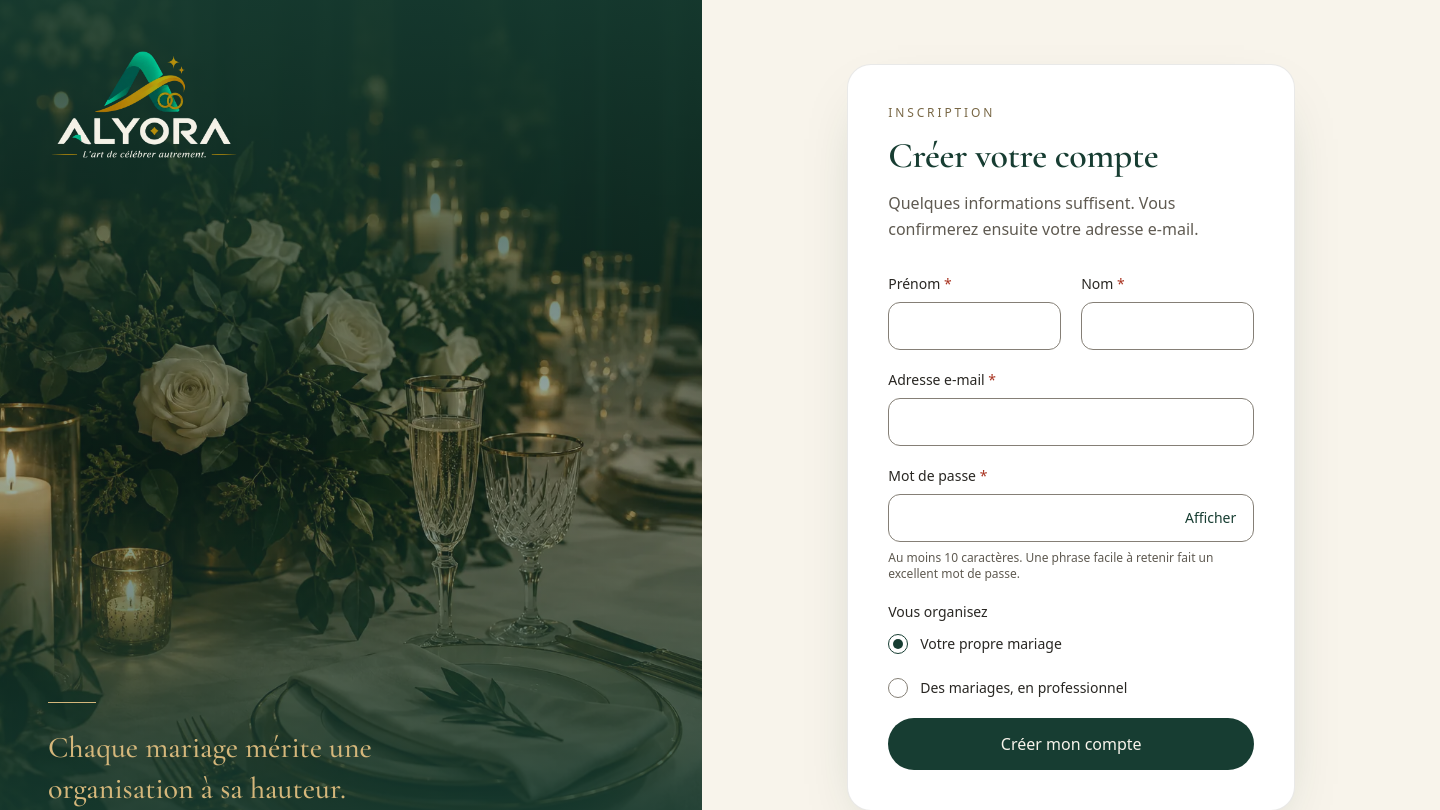
Test: registration page › sends an Idempotency-Key, then says to check the mailbox
In the field labelled "Prénom *": (975, 326) [888,302,1061,350], type "Awa"
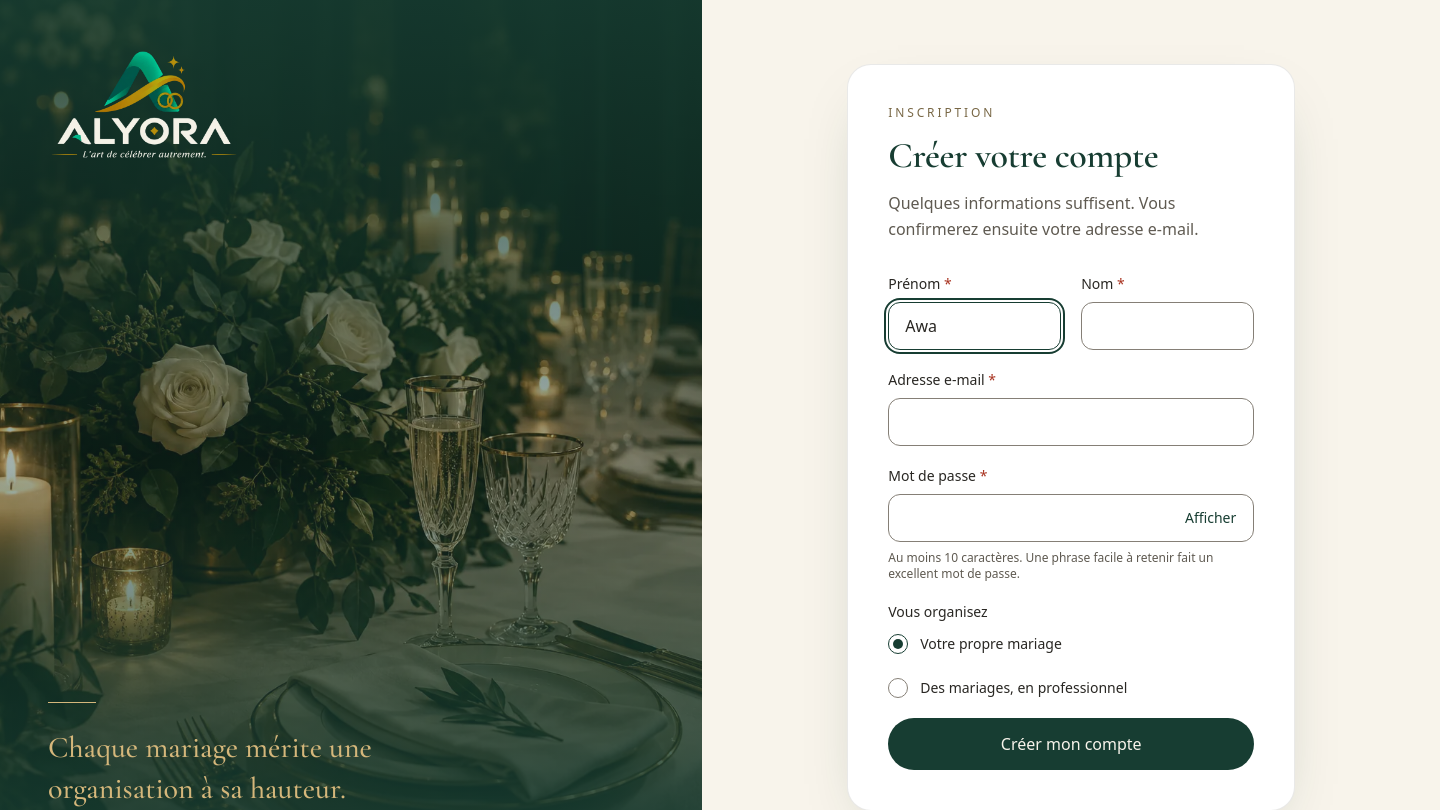
In the field labelled "Nom *": (1168, 326) [1081,302,1254,350], type "Koné"
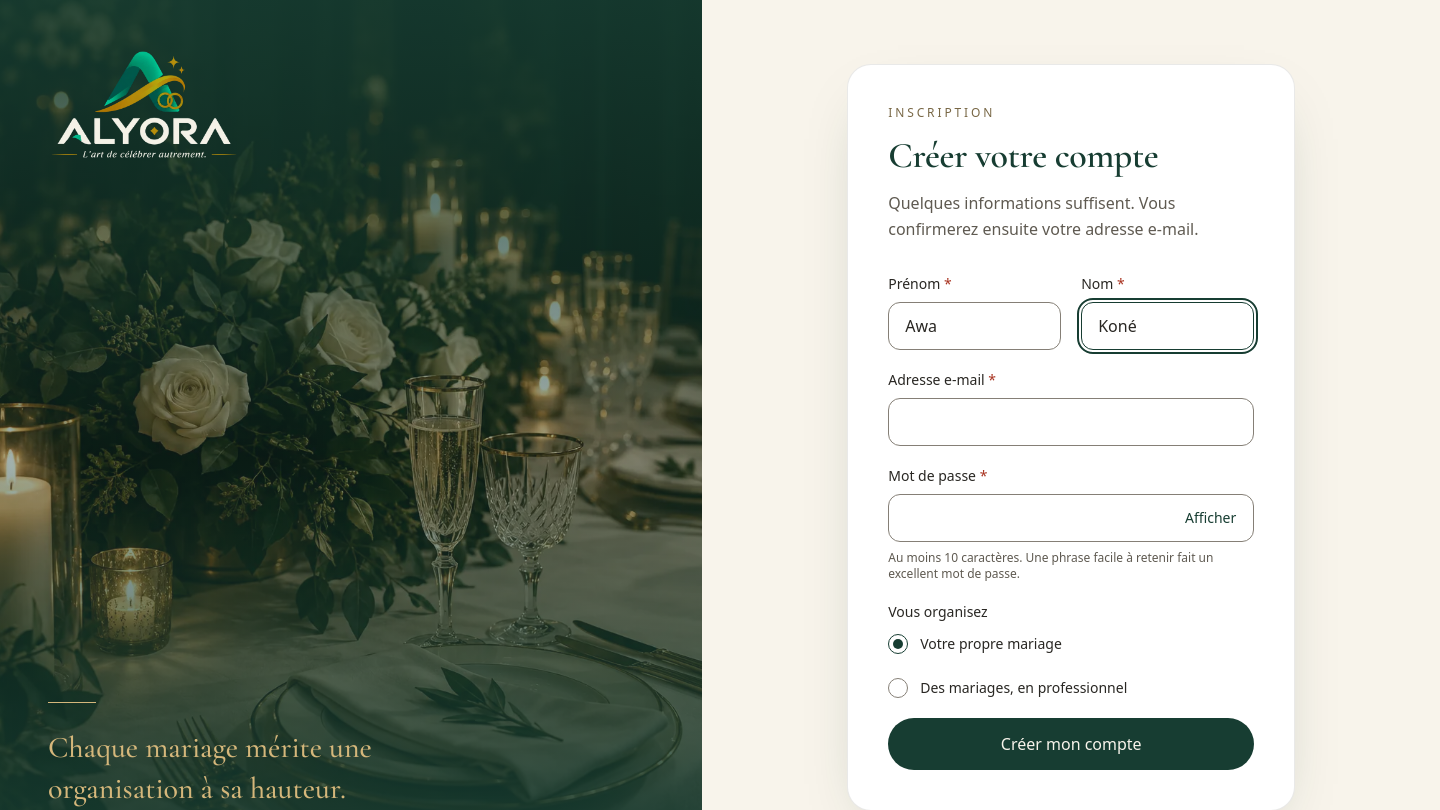
In the field labelled "Adresse e-mail *": (1071, 422) [888,398,1254,446], type "awa@exemple.ci"
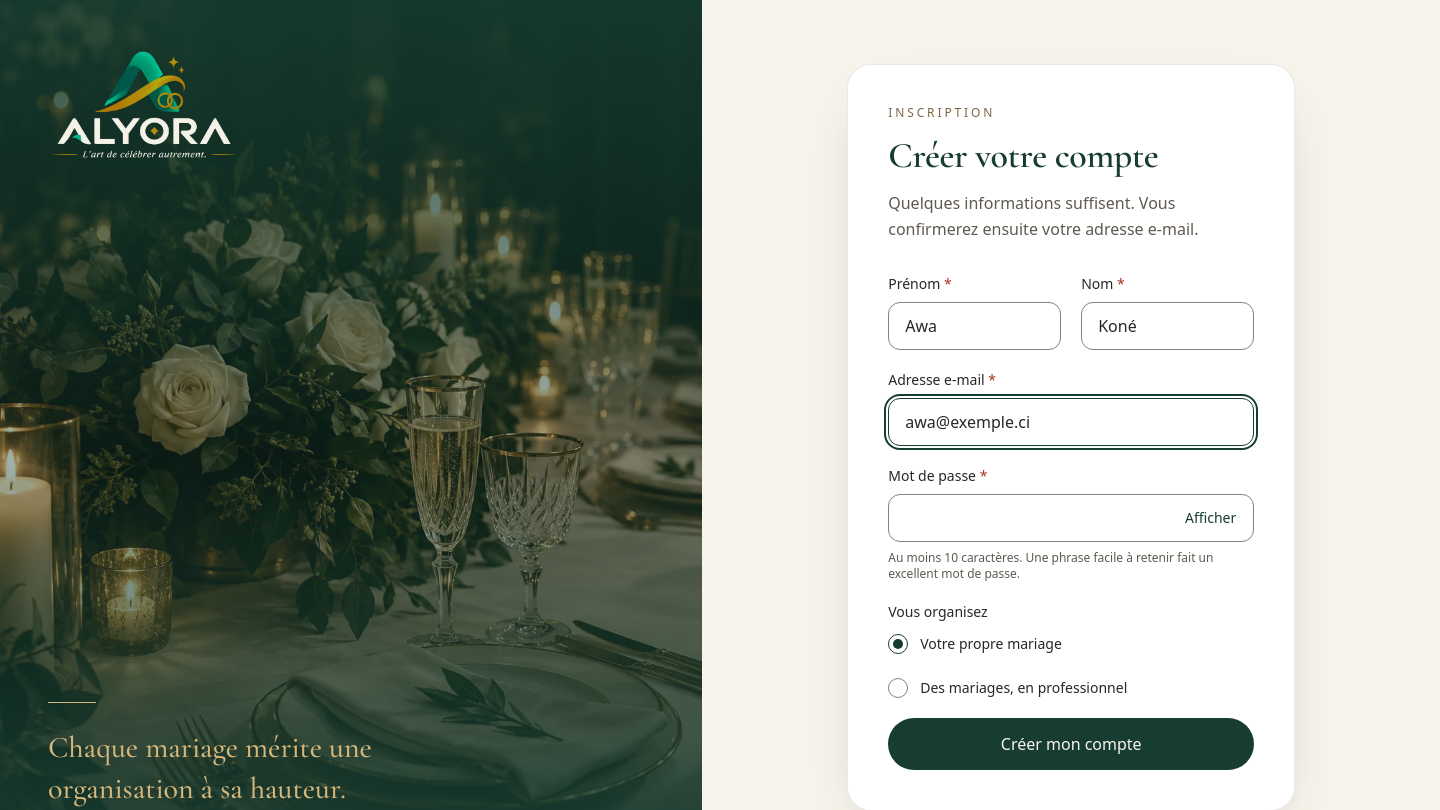
In the password field labelled "Mot de passe *": (1071, 518) [888,494,1254,542], type "Le soleil se lève sur la lagune"
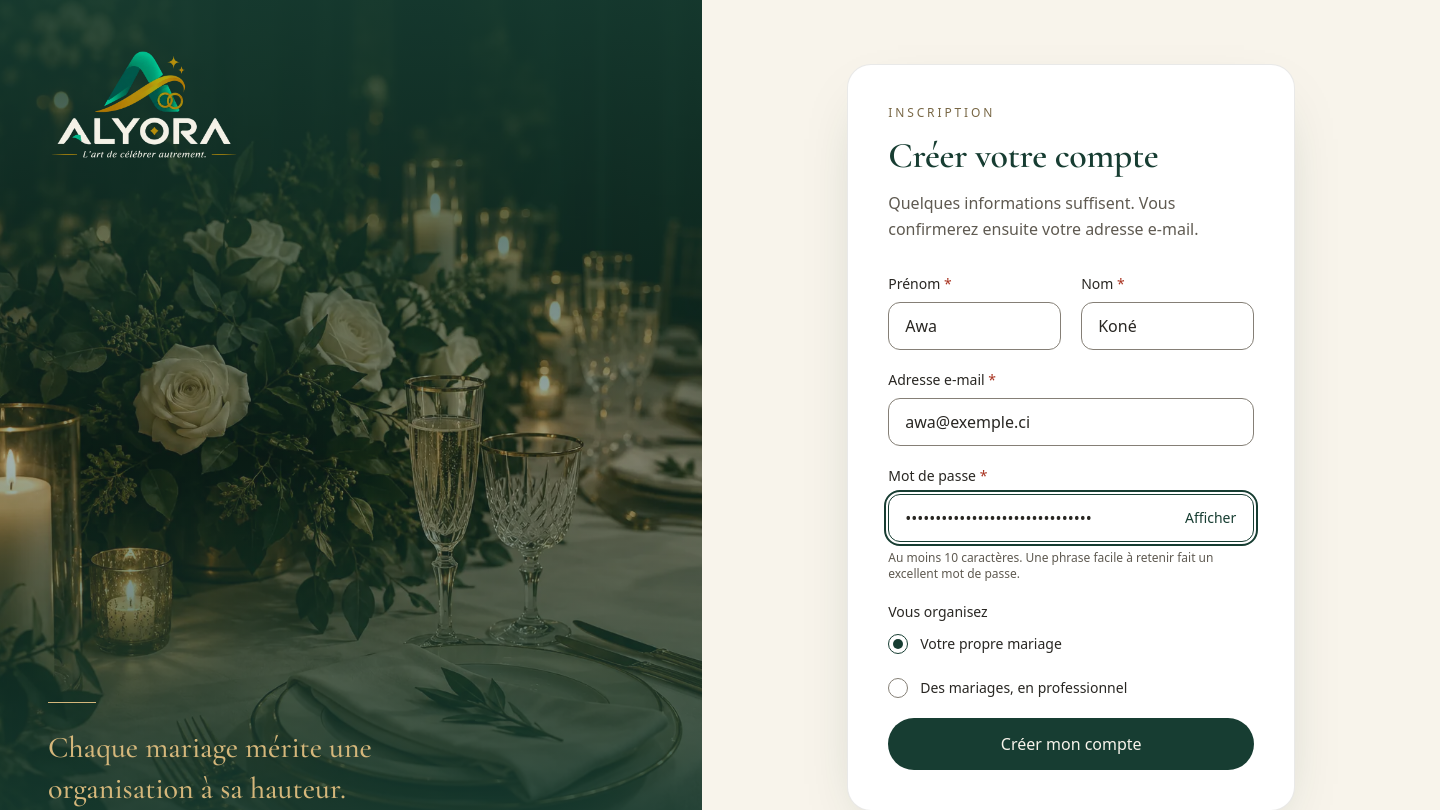
Click the button "Créer mon compte": click(1071, 744) [888,718,1254,770]
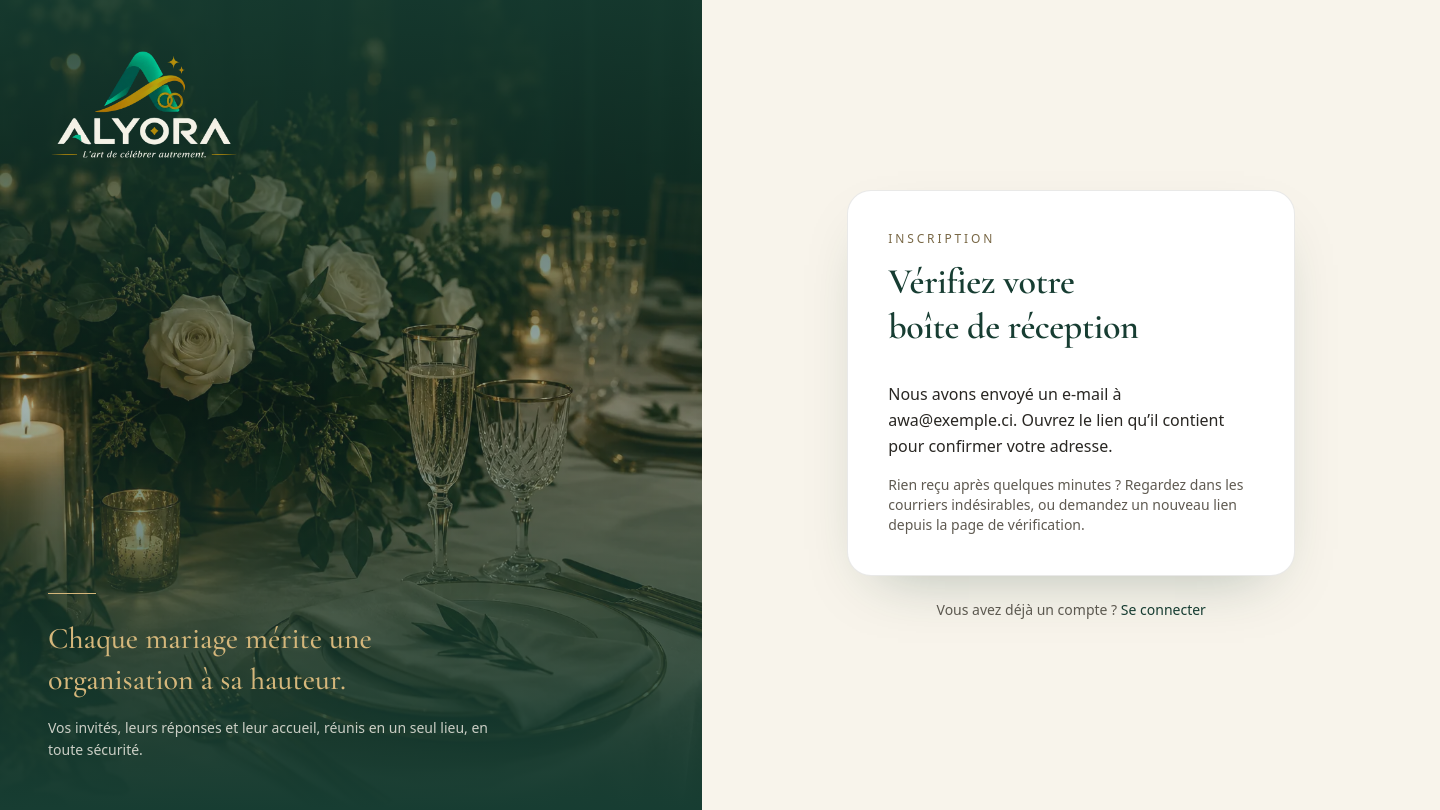
Check: the heading "Vérifiez votre boîte de réception" is shown, box [888,260,1138,348]
